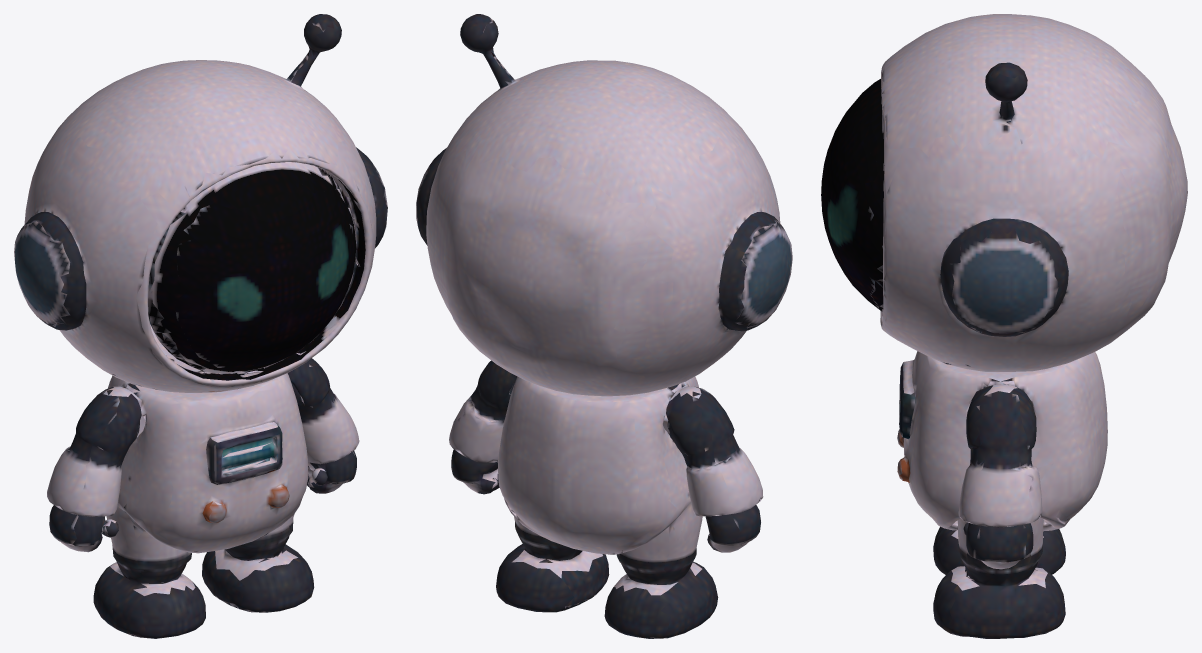
The model's file is robot.glb.
3 views of the same model, side by side, from view 1: azimuth 30°, elevation 25°; view 2: azimuth 150°, elevation 25°; view 3: azimuth 270°, elevation 25° (orthographic). The views are drawn at different scales.
Bounding box in the file's own units: 0.6595 × 1 × 0.5641.
1 material, 1 textured.
